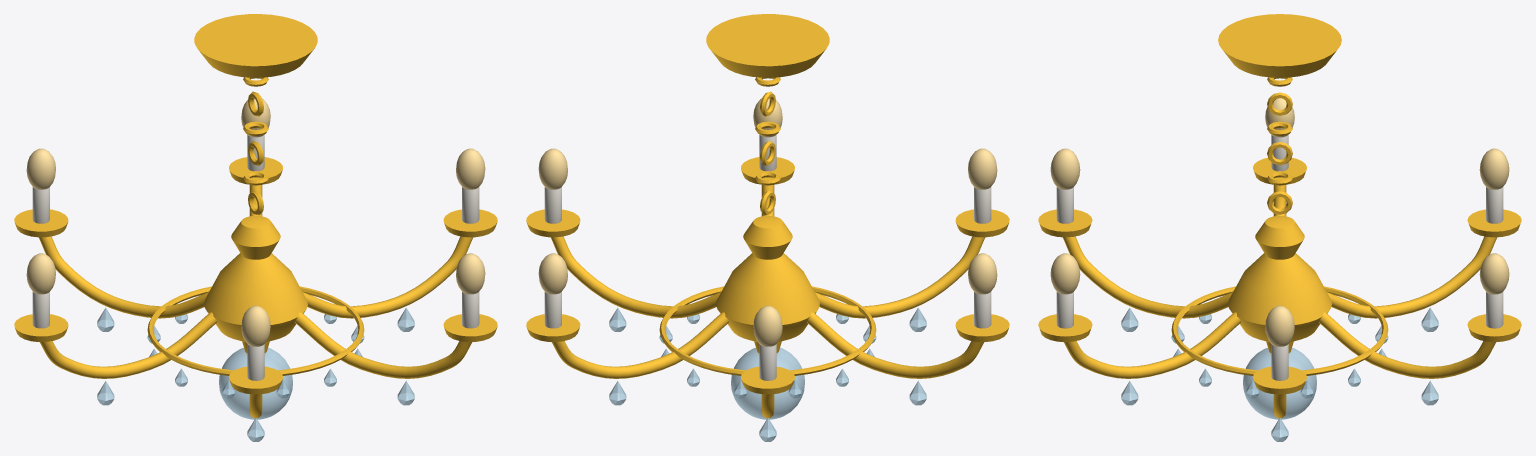
Rendered from PropChandelier.fbx.
3 views of the same model, side by side, from view 1: azimuth 30°, elevation 25°; view 2: azimuth 150°, elevation 25°; view 3: azimuth 270°, elevation 25° (orthographic).
Parts seen in each view (by area): view 1: Gold, Glow, Crystal, Candle; view 2: Gold, Glow, Crystal, Candle; view 3: Gold, Glow, Crystal, Candle.
Part boxes in pixels (bbox=[...]): Gold: bbox=[14, 14, 497, 418]; Glow: bbox=[26, 98, 485, 346]; Crystal: bbox=[97, 307, 414, 441]; Candle: bbox=[32, 134, 479, 380]; Gold: bbox=[526, 14, 1009, 418]; Glow: bbox=[538, 98, 997, 346]; Crystal: bbox=[609, 307, 926, 441]; Candle: bbox=[544, 134, 991, 380]; Gold: bbox=[1038, 14, 1521, 418]; Glow: bbox=[1050, 98, 1509, 346]; Crystal: bbox=[1121, 307, 1438, 441]; Candle: bbox=[1056, 135, 1503, 380].
Bounding box in the file's own units: 444 × 335 × 390.
